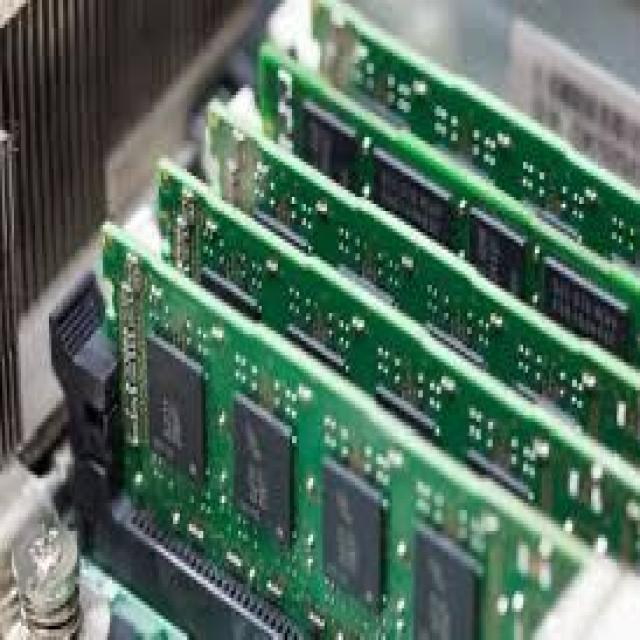Ram: (8, 17, 640, 621)
